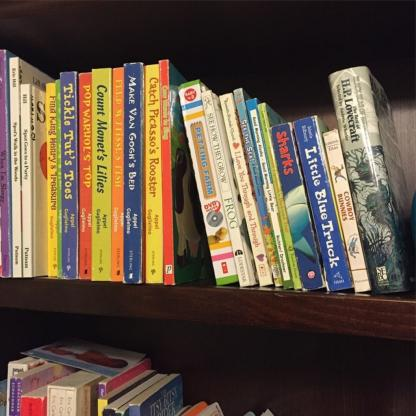book: (0, 49, 411, 298), (0, 344, 276, 416)
